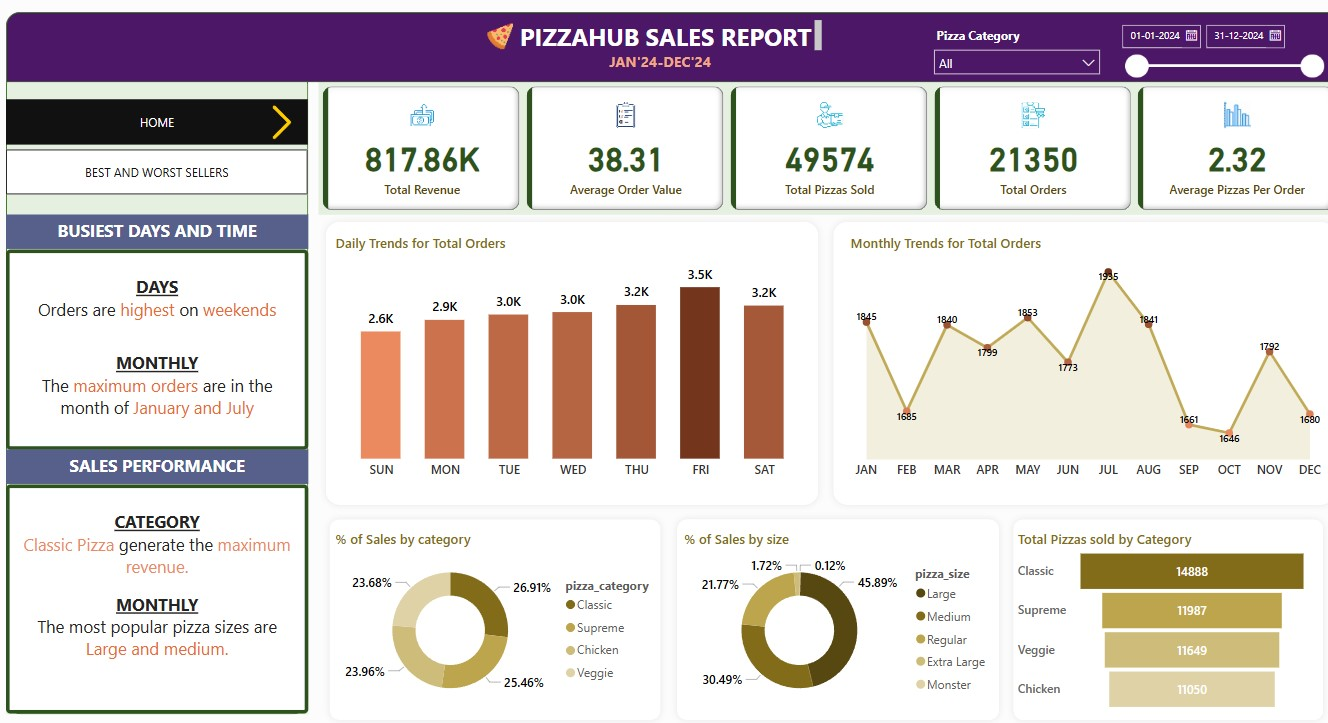

Layout of this report page (visuals, bound fields, positions):
{"tool":"powerbi","page":{"name":"HOME","canvas":[1500,820],"ordinal":0},"visuals":[{"type":"shape","box":[11.7,86.7,336.7,718.3],"z":0},{"type":"cardVisual","fields":{"Data":["pizza_sales.Total Revenue","pizza_sales.Average Order Value","pizza_sales.Total Pizzas Sold","pizza_sales.Total Orders","pizza_sales.Average Pizzas Per Order"]},"box":[360,100,1140,148.3],"z":1000},{"type":"shape","box":[11.7,21.7,1488.3,78.3],"z":2000},{"type":"textbox","box":[575.2,26.5,349.6,44.6],"z":3000},{"type":"textbox","box":[678.2,61.3,140.7,32],"z":4000},{"type":"image","box":[541.7,27.9,40.4,43.2],"z":5000},{"type":"shape","box":[360,248.3,565,331.7],"z":6000},{"type":"columnChart","title":"Daily Trends for Total Orders","fields":{"Category":["pizza_sales.Order Day"],"Y":["pizza_sales.Total Orders"]},"box":[373.3,268.3,540,283.3],"z":7000},{"type":"shape","box":[925,248.3,575,331.7],"z":8000},{"type":"areaChart","title":"Monthly Trends for Total Orders","fields":{"Y":["pizza_sales.Total Orders"],"Category":["pizza_sales.Order Month"]},"box":[946.7,268.3,540,283.3],"z":9000},{"type":"shape","box":[363.3,580,385,240],"z":10000},{"type":"shape","box":[750,580,375,240],"z":11000},{"type":"shape","box":[1125,580,361.7,240],"z":12000},{"type":"donutChart","title":"% of Sales by size","fields":{"Y":["pizza_sales.Total Revenue"],"Category":["pizza_sales.pizza_size"]},"box":[761.7,598.3,355,205],"z":13000},{"type":"donutChart","title":"% of Sales by category","fields":{"Category":["pizza_sales.pizza_category"],"Y":["pizza_sales.Total Revenue"]},"box":[373.3,598.3,375,205],"z":14000},{"type":"funnel","title":"Total Pizzas sold by Category","fields":{"Category":["pizza_sales.pizza_category"],"Y":["pizza_sales.Total Pizzas Sold"]},"box":[1133.3,598.3,333.3,206.7],"z":15000},{"type":"textbox","box":[11.7,248.3,336.7,38.3],"z":16000},{"type":"textbox","box":[11.7,286.7,336.7,223.3],"z":17000},{"type":"textbox","box":[11.7,510,336.7,38.3],"z":18000},{"type":"textbox","box":[11.7,548.3,336.7,255],"z":19000},{"type":"slicer","title":"Pizza Category","fields":{"Values":["pizza_sales.pizza_category"]},"box":[1035,35,205,60],"z":20000},{"type":"slicer","title":"Pizza Category","fields":{"Values":["pizza_sales.order_date"]},"box":[1241.7,26.7,245,73.3],"z":21000},{"type":"image","box":[296.7,120,51.7,55],"z":22000},{"type":"pageNavigator","box":[11.7,120,336.7,50],"z":23000},{"type":"pageNavigator","box":[11.7,175,336.7,50],"z":24000},{"type":"image","box":[290,121.7,58.3,48.3],"z":25000}]}

Visuals, with their boxes in screenshot pixels (x1, y1, x2, y2), scaled from the page's 1500x820 canvas onto the 1328x723 screenshot:
shape: region(10, 76, 308, 710)
cardVisual - pizza_sales.Total Revenue x pizza_sales.Average Order Value: region(319, 88, 1327, 219)
shape: region(10, 19, 1327, 88)
textbox: region(509, 23, 819, 63)
textbox: region(600, 54, 725, 82)
image: region(480, 25, 515, 63)
shape: region(319, 219, 819, 511)
"Daily Trends for Total Orders" columnChart: region(330, 237, 809, 486)
shape: region(819, 219, 1327, 511)
"Monthly Trends for Total Orders" areaChart: region(838, 237, 1316, 486)
shape: region(322, 511, 662, 722)
shape: region(664, 511, 996, 722)
shape: region(996, 511, 1316, 722)
"% of Sales by size" donutChart: region(674, 528, 989, 708)
"% of Sales by category" donutChart: region(330, 528, 662, 708)
"Total Pizzas sold by Category" funnel: region(1003, 528, 1298, 710)
textbox: region(10, 219, 308, 253)
textbox: region(10, 253, 308, 450)
textbox: region(10, 450, 308, 483)
textbox: region(10, 483, 308, 708)
"Pizza Category" slicer: region(916, 31, 1098, 84)
"Pizza Category" slicer: region(1099, 24, 1316, 88)
image: region(263, 106, 308, 154)
pageNavigator: region(10, 106, 308, 150)
pageNavigator: region(10, 154, 308, 198)
image: region(257, 107, 308, 150)
